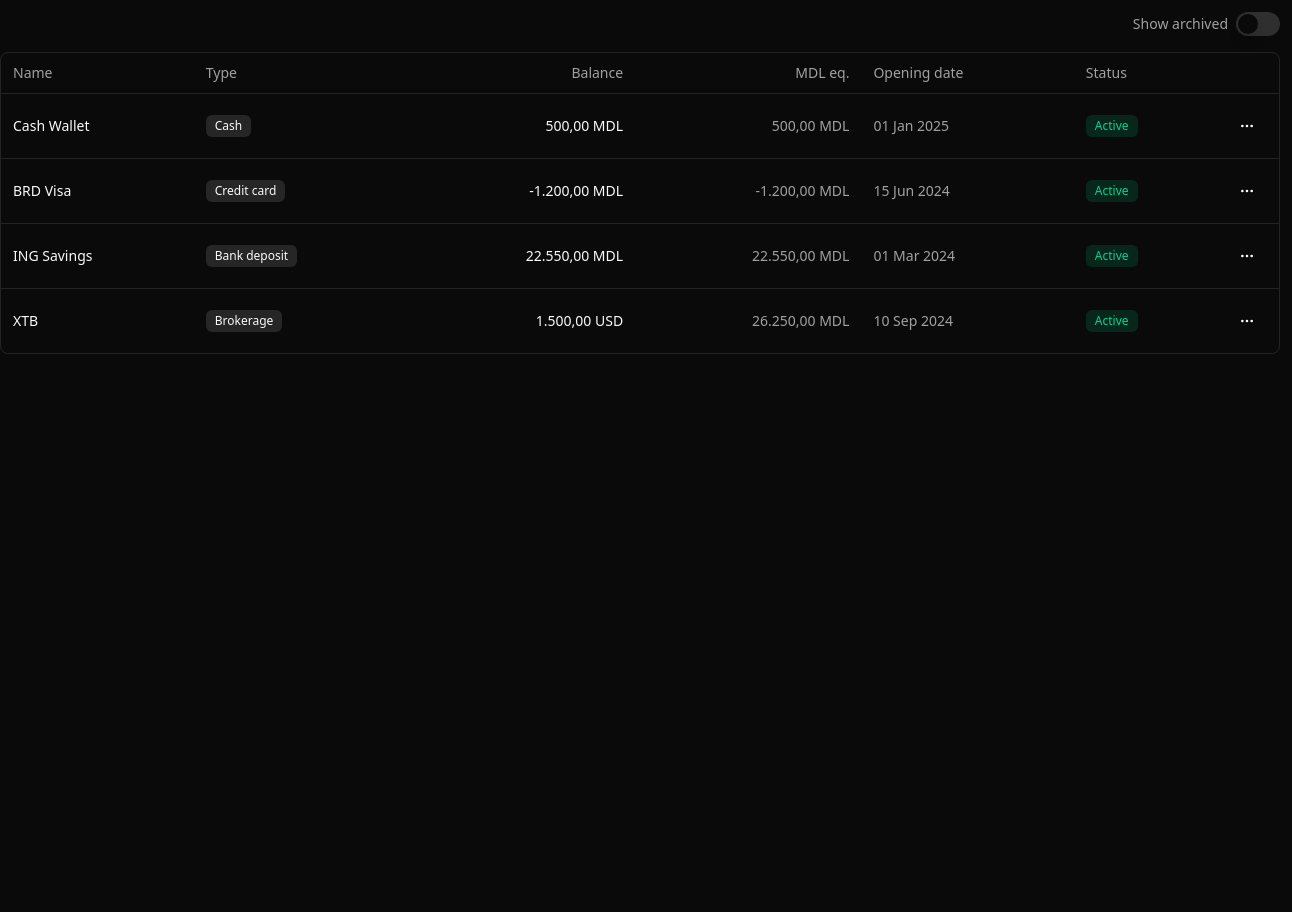
AccountsTable navigation › archives an active account from the row menu and toasts success
Click the button with test id "account-actions".
click(1247, 190)  # box left=1227, top=170, right=1267, bottom=210
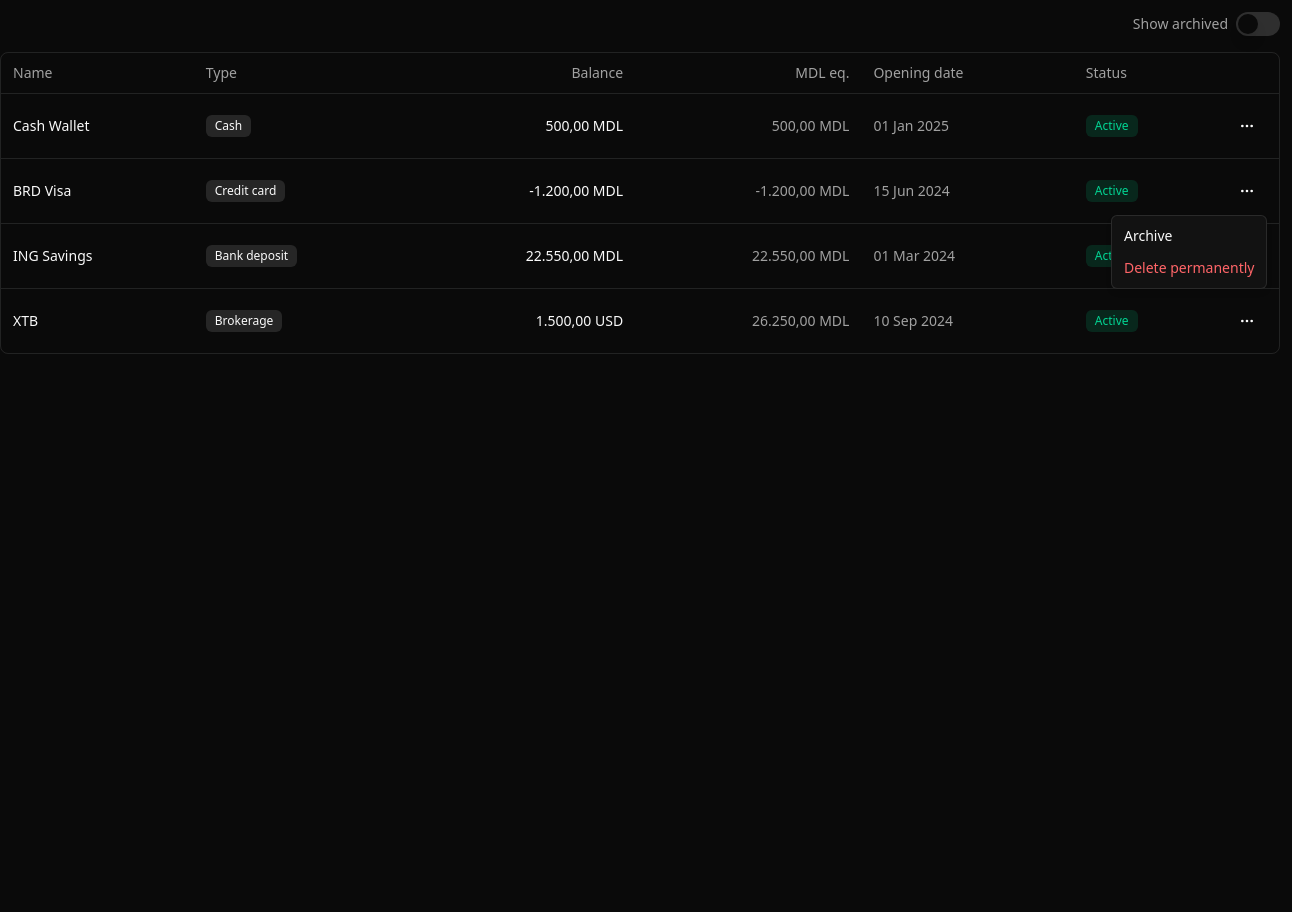
Click the menu item with test id "archive-account".
click(1148, 236)  # box left=1124, top=226, right=1172, bottom=245
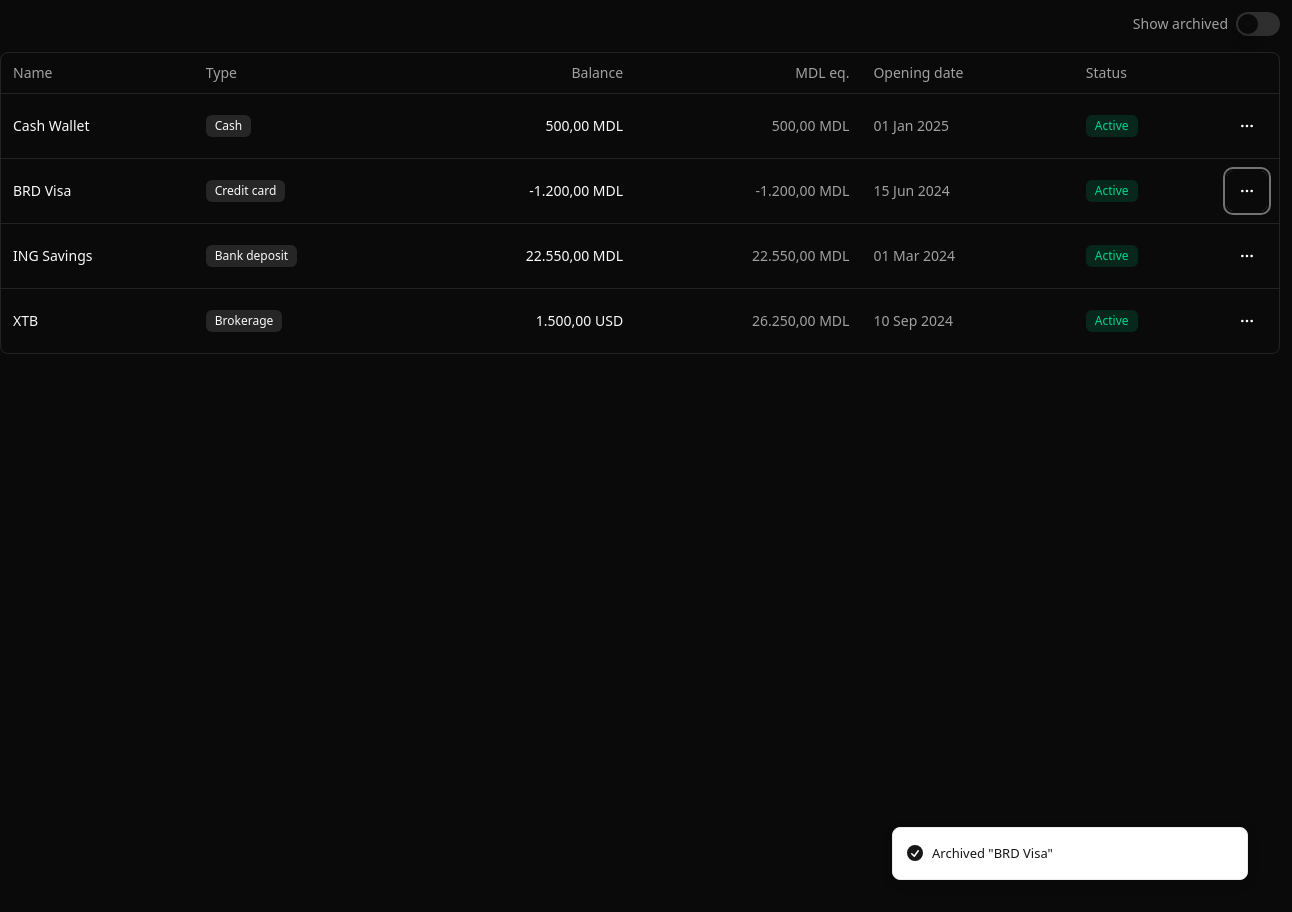
Expected: the text "Archived \"BRD Visa\"" is shown, left=932, top=844, right=1053, bottom=863
